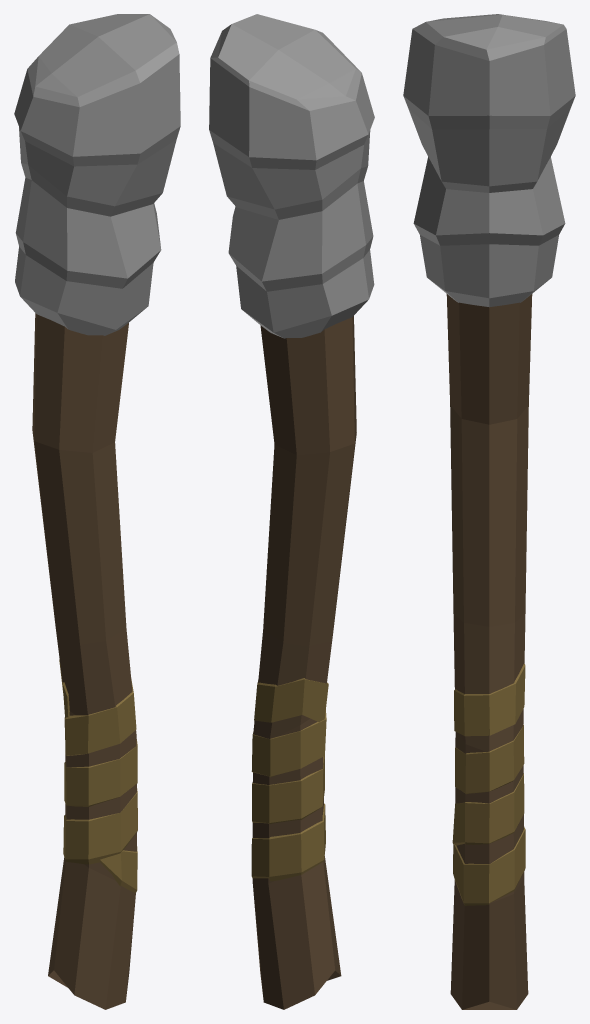
Rendered from torch.gltf.
3 renders of one model, left to right at view 1: azimuth 30°, elevation 25°; view 2: azimuth 150°, elevation 25°; view 3: azimuth 270°, elevation 25°, orthographic. The views are drawn at different scales.
Parts seen in each view (by area): view 1: WoodenTorch; view 2: WoodenTorch; view 3: WoodenTorch.
Boxes of the visible parts, x1=… form: WoodenTorch: x1=14, y1=14, x2=180, y2=1009; WoodenTorch: x1=209, y1=14, x2=374, y2=1009; WoodenTorch: x1=403, y1=14, x2=575, y2=1009.
Size of the model in its own units: 0.4572 by 2.69 by 0.4188.
